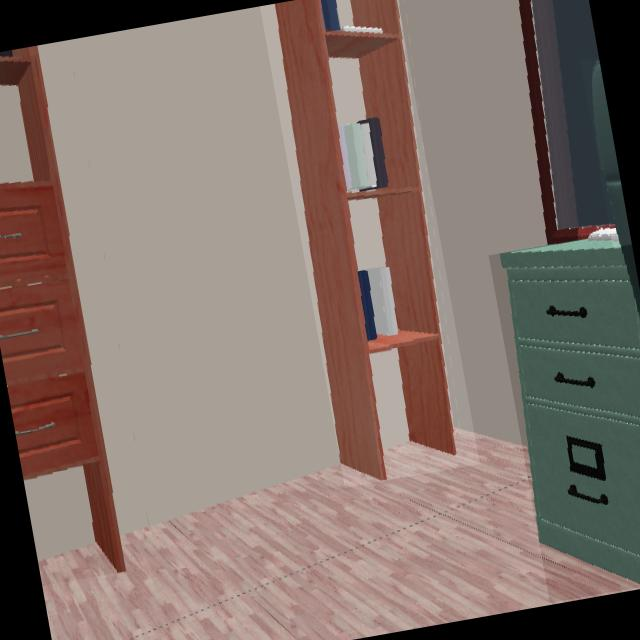book: (340, 119, 388, 190), (358, 268, 397, 342), (320, 0, 339, 30)
cabinet: (0, 58, 124, 571), (500, 239, 640, 585)
chair: (590, 57, 631, 244)
shelf: (273, 0, 455, 480)
